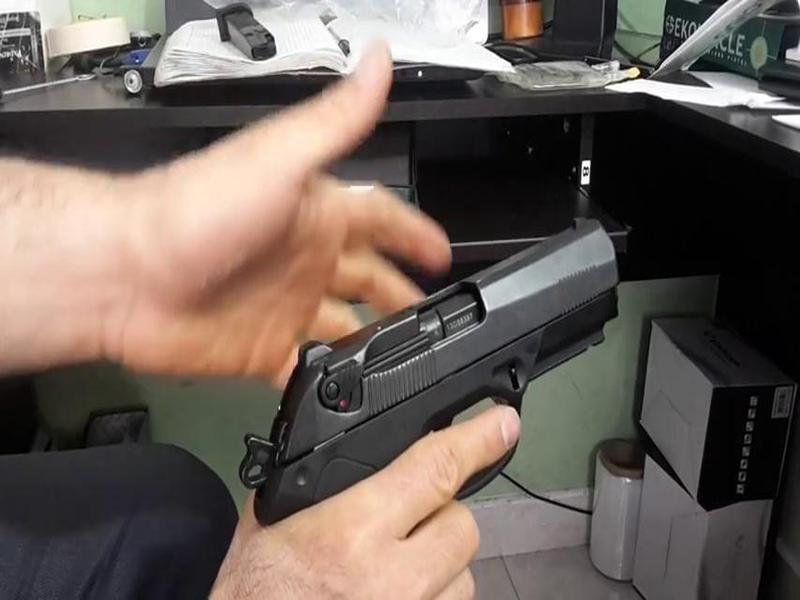Pistola: (230, 209, 637, 532)
